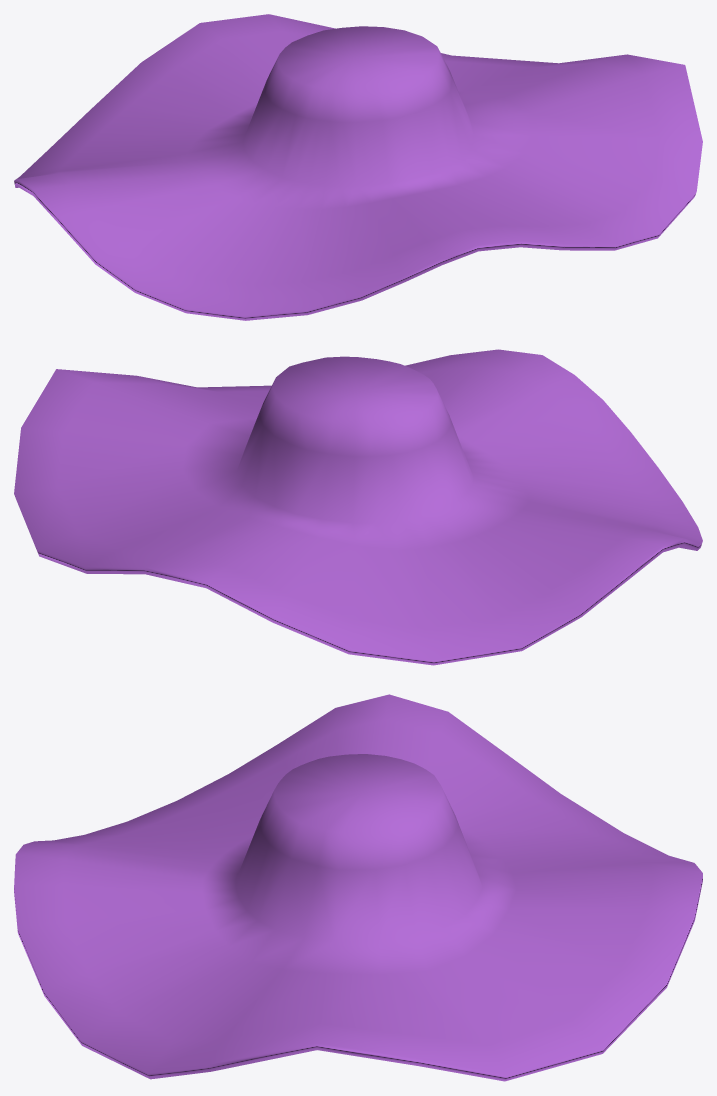
Rendered from SM_Hat_01.fbx.
3 views of the same model, one above another, from view 1: azimuth 30°, elevation 25°; view 2: azimuth 150°, elevation 25°; view 3: azimuth 270°, elevation 25° (orthographic). The views are drawn at different scales.
Visible parts, largest first — view 1: SM_Hat_01; view 2: SM_Hat_01; view 3: SM_Hat_01.
Boxes of the visible parts, x1=… form: SM_Hat_01: x1=14, y1=14, x2=702, y2=320; SM_Hat_01: x1=14, y1=349, x2=702, y2=665; SM_Hat_01: x1=14, y1=694, x2=702, y2=1081.
Size of the model in its own units: 48.21 by 40.7 by 10.12.
1 material, 1 textured.
